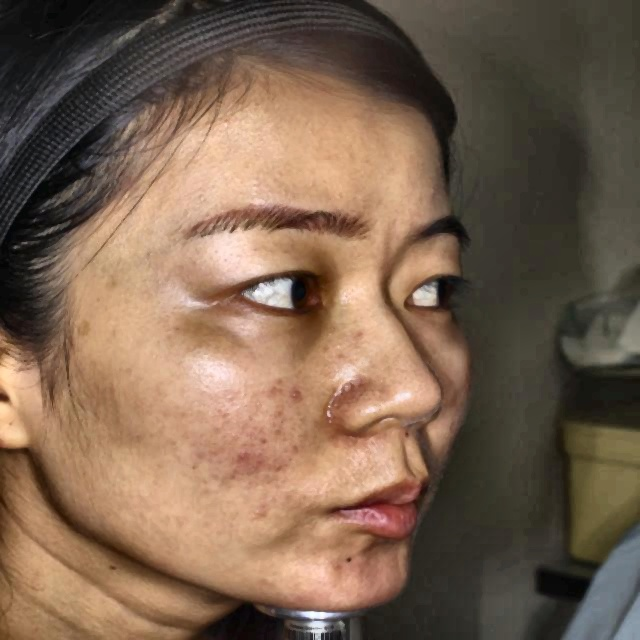comedone: (232, 442, 256, 475), (281, 377, 305, 405)
